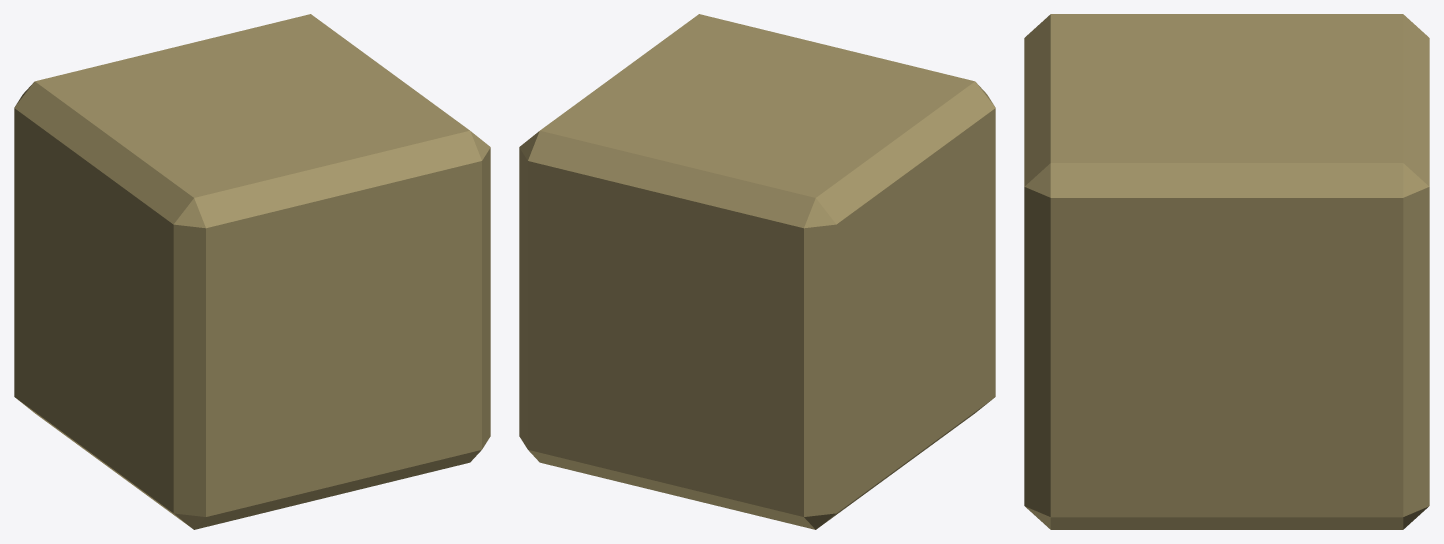
Rendered from earthStructure.obj.
3 views of the same model, side by side, from view 1: azimuth 30°, elevation 25°; view 2: azimuth 150°, elevation 25°; view 3: azimuth 270°, elevation 25° (orthographic). The views are drawn at different scales.
Visible parts, largest first — view 1: earthStructure; view 2: earthStructure; view 3: earthStructure.
Boxes of the visible parts, x1=… form: earthStructure: x1=14, y1=14, x2=490, y2=529; earthStructure: x1=519, y1=14, x2=995, y2=529; earthStructure: x1=1024, y1=14, x2=1429, y2=529.
Size of the model in its own units: 1 by 1 by 1.
Materials: 1 (1 with a texture image).
